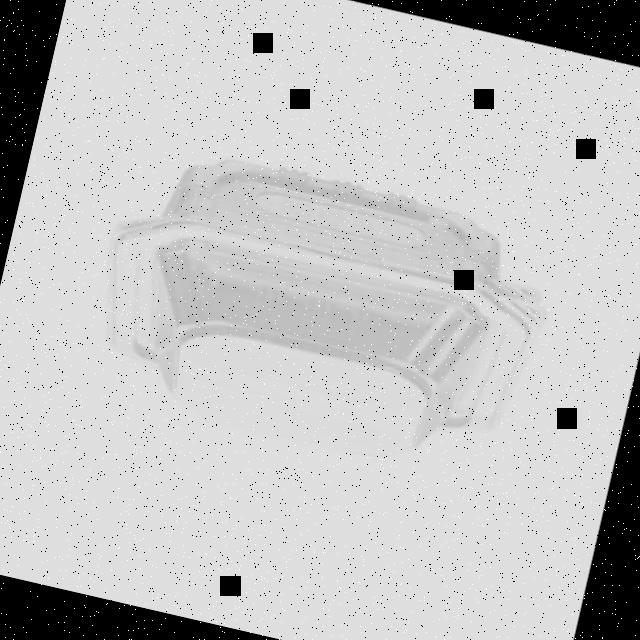plastic_box: (78, 128, 564, 474)
